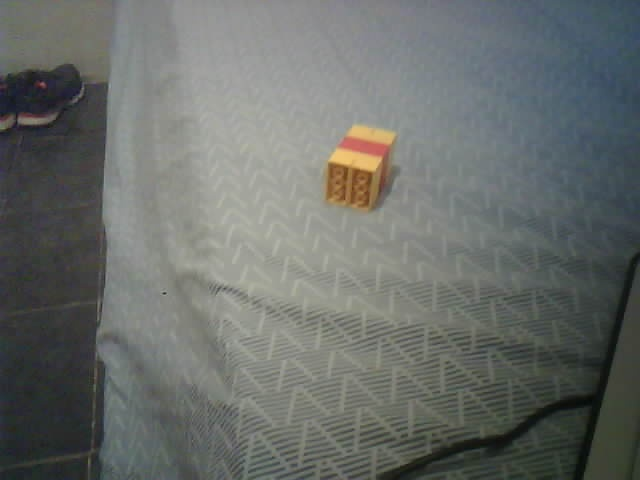lego: (322, 124, 398, 213)
